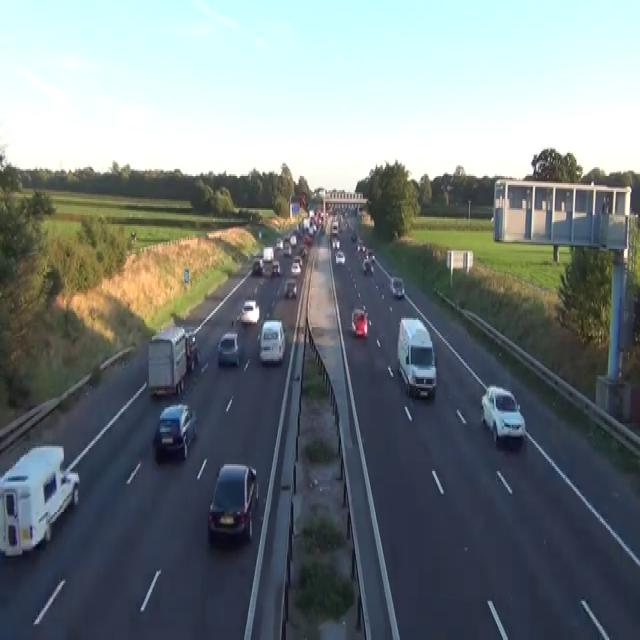Car: (207, 462, 258, 544), (481, 384, 525, 443), (154, 404, 197, 458), (258, 318, 285, 363), (217, 331, 240, 366), (239, 298, 259, 324), (185, 330, 198, 370), (351, 308, 368, 338), (389, 275, 404, 297), (283, 277, 297, 297), (361, 256, 374, 274), (252, 258, 263, 274), (271, 260, 281, 276), (290, 262, 301, 276), (335, 249, 345, 263), (293, 254, 303, 267), (366, 249, 375, 261), (356, 240, 365, 251), (283, 244, 291, 256), (304, 233, 312, 245), (332, 238, 340, 249), (351, 229, 357, 242), (275, 238, 282, 249), (130, 229, 136, 240), (290, 235, 296, 245), (258, 230, 262, 238), (490, 215, 494, 222)
Truck: (0, 442, 80, 556), (147, 326, 198, 396), (396, 316, 437, 398)
